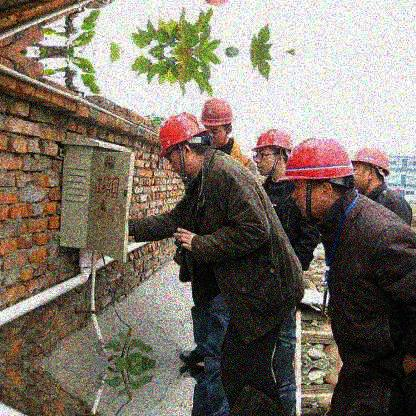helmet: (280, 137, 355, 219), (158, 110, 210, 177), (251, 130, 294, 175), (351, 145, 390, 190), (202, 98, 235, 146)
